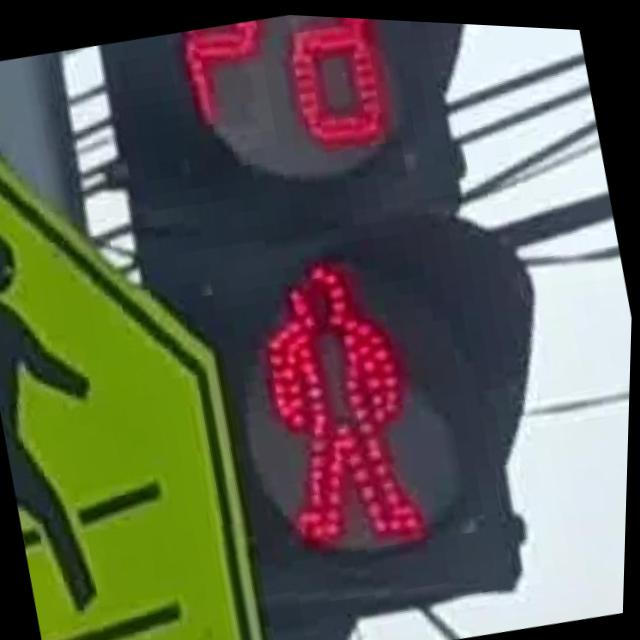red_light: (226, 220, 473, 566)
